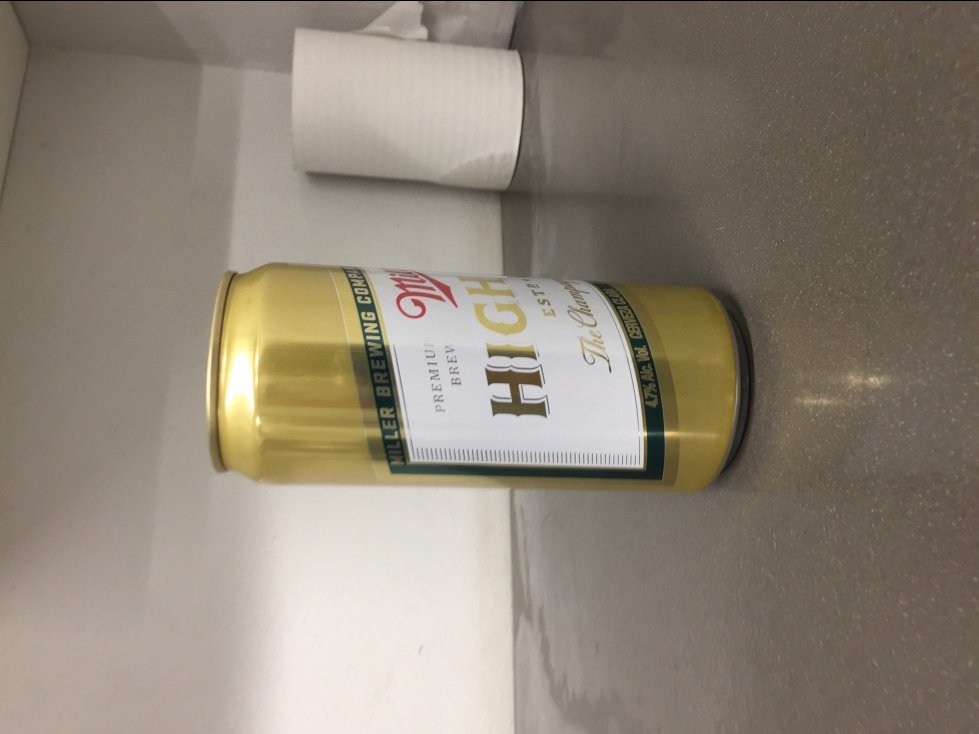miller: (204, 260, 750, 496)
